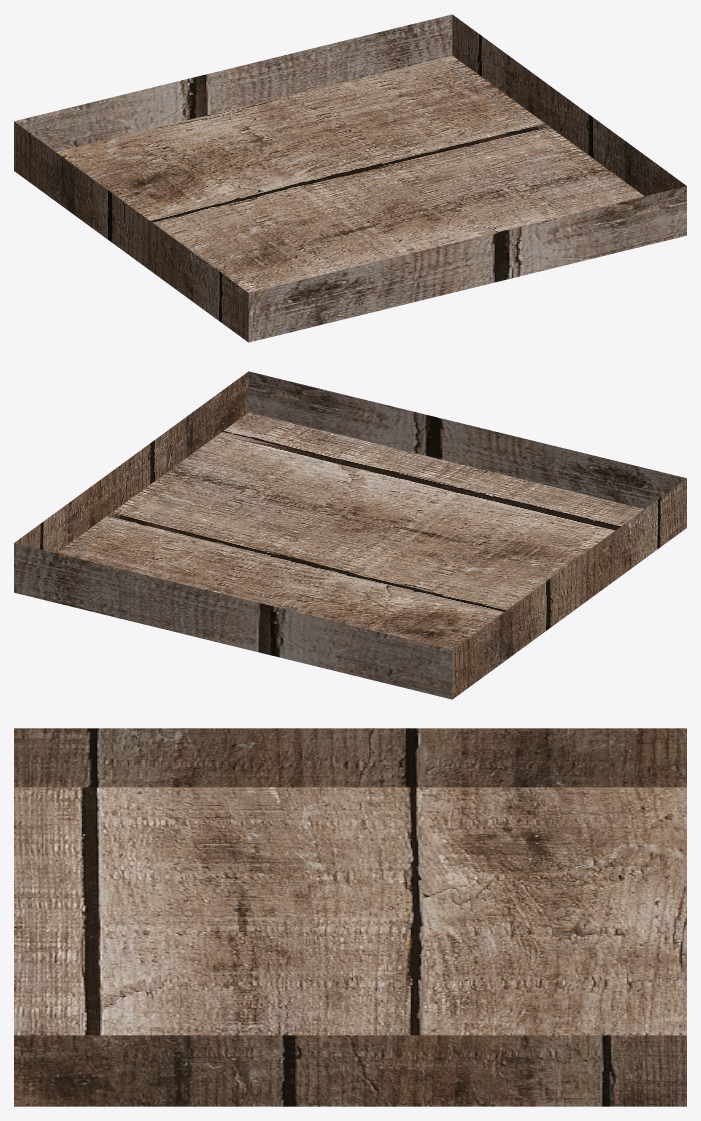
The model's file is planeMapWood.obj.
The picture shows the model from 3 angles, top to bottom: view 1: azimuth 30°, elevation 25°; view 2: azimuth 150°, elevation 25°; view 3: azimuth 270°, elevation 25°; orthographic projection. The views are drawn at different scales.
Visible parts, largest first — view 1: Cube_Cube.001; view 2: Cube_Cube.001; view 3: Cube_Cube.001.
Part boxes in pixels (x1,y1,x2,y2): Cube_Cube.001: (14,14,686,342); Cube_Cube.001: (14,371,686,699); Cube_Cube.001: (14,728,686,1106).
Size of the model in its own units: 410 by 44.31 by 380.
1 material, 1 textured.
